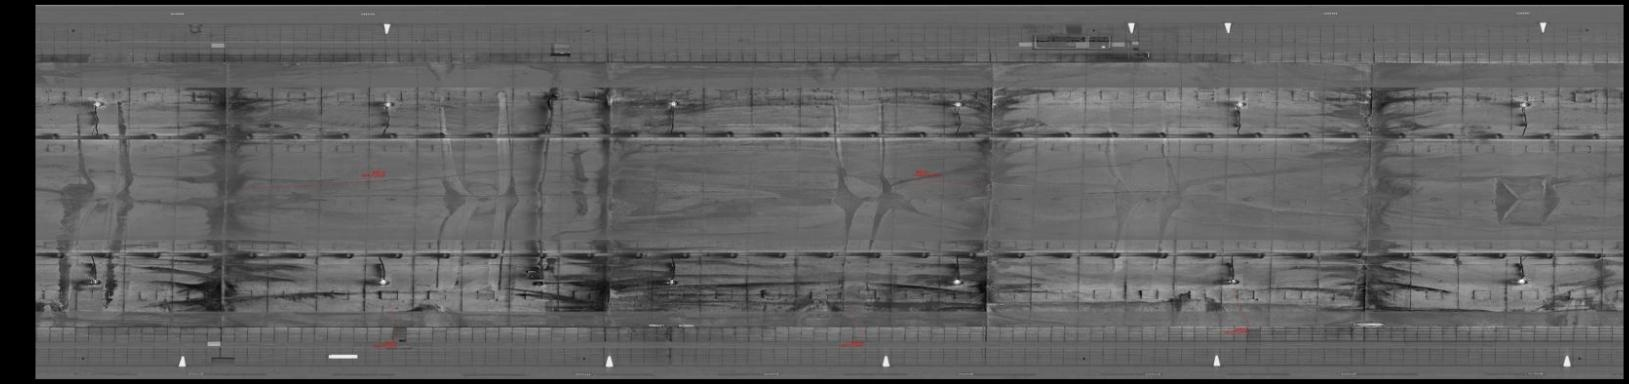light: (375, 98, 401, 112), (1512, 274, 1532, 290), (1221, 274, 1243, 289), (1513, 95, 1535, 109), (945, 98, 970, 109), (372, 274, 392, 287), (949, 275, 967, 289), (88, 97, 107, 110), (1226, 98, 1248, 109), (85, 274, 103, 287), (664, 99, 683, 110), (662, 277, 683, 286)
